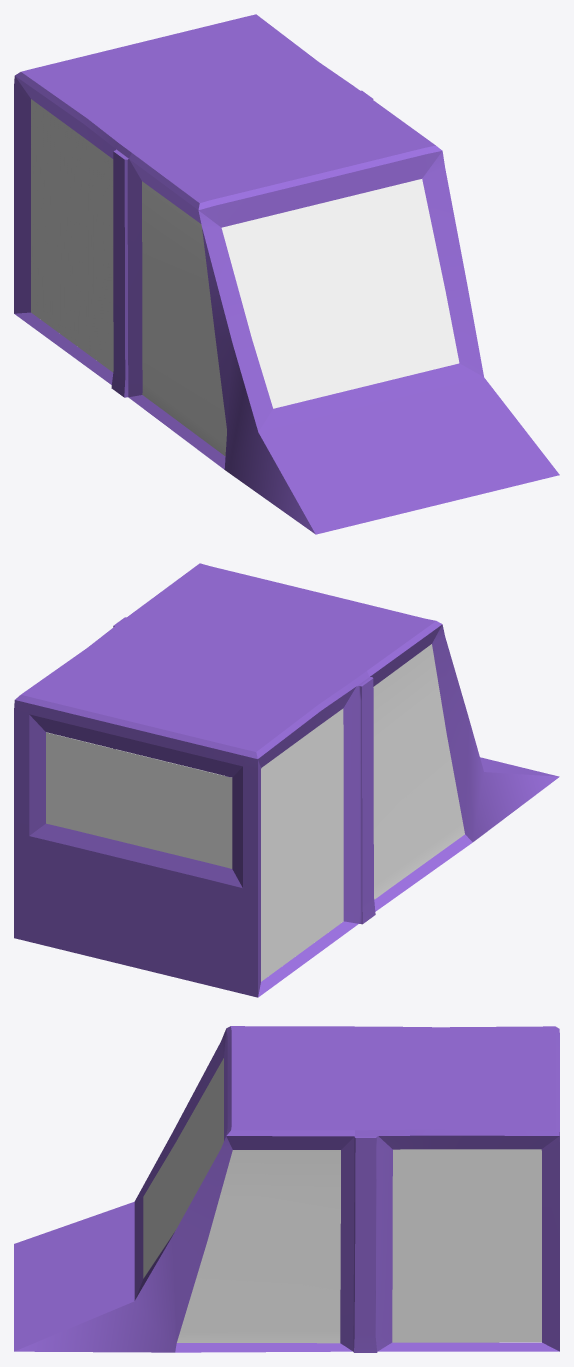
The model's file is BOXY-TOP-CsACNif-.glb.
The picture shows the model from 3 angles, top to bottom: view 1: azimuth 30°, elevation 25°; view 2: azimuth 150°, elevation 25°; view 3: azimuth 270°, elevation 25°; orthographic projection. The views are drawn at different scales.
Bounding box in the file's own units: 1.54 × 1.43 × 3.21.
Materials: 2 (2 with a texture image).
